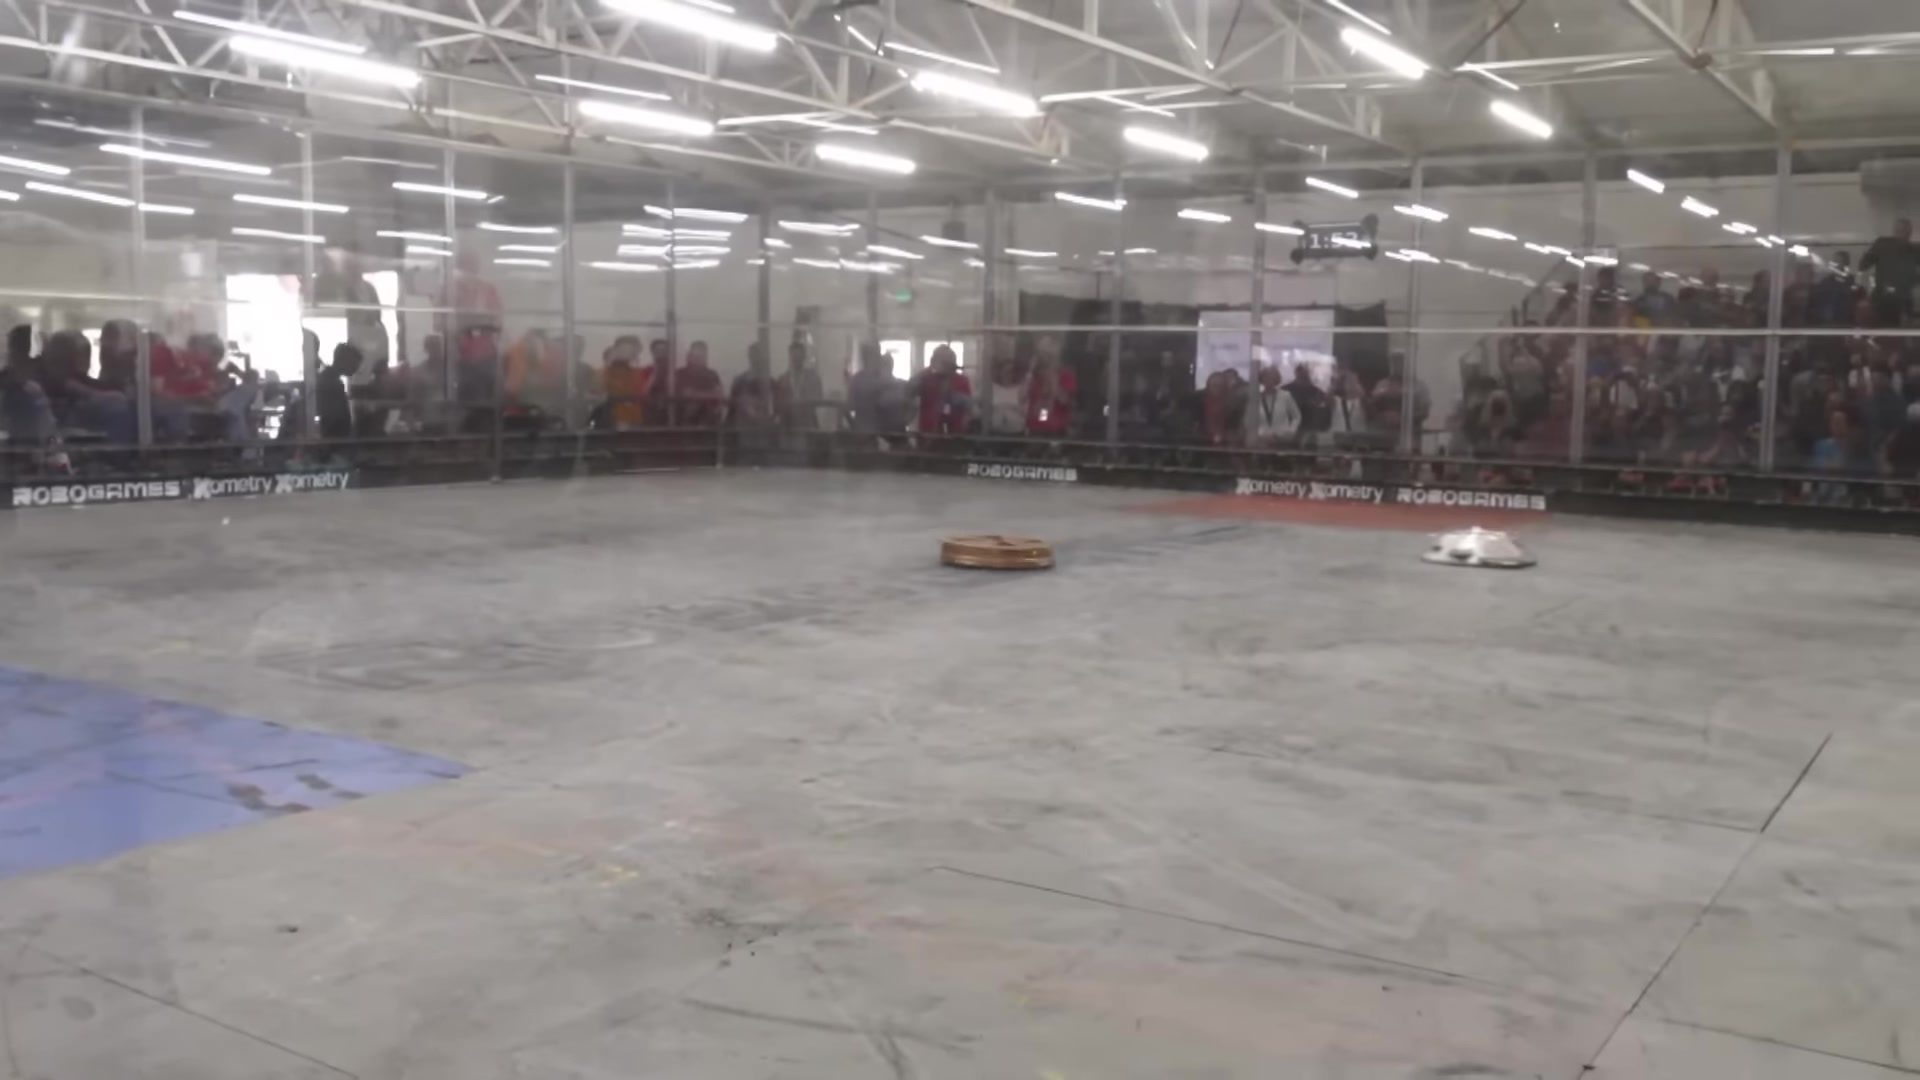combatbot: (1419, 525, 1540, 572), (943, 533, 1059, 574)
